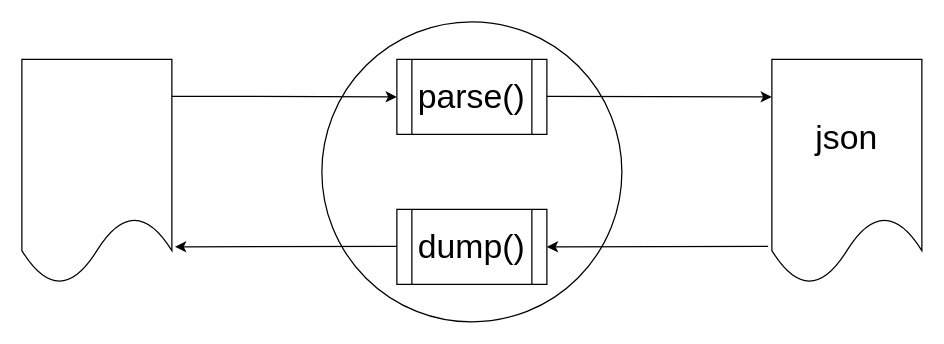
Image size: 944x344. Some labels were removed from this diagram. Here are the shapes that lost their labels. From the top down, the box of each, then its label:
(21, 58, 172, 284): RAW JSON STRING
(321, 21, 622, 322): ghjson
